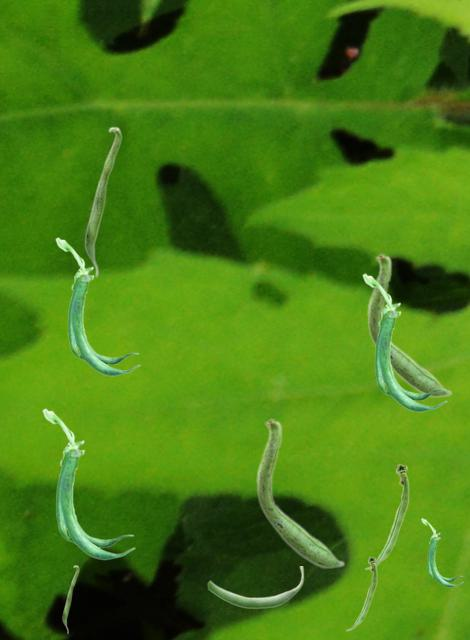french_bean: (42, 408, 134, 559), (256, 417, 344, 568), (367, 252, 451, 397), (55, 237, 139, 375), (362, 273, 446, 411), (84, 126, 121, 277), (364, 463, 408, 569), (207, 566, 303, 608), (421, 518, 462, 586), (345, 556, 376, 630), (62, 565, 78, 633)
